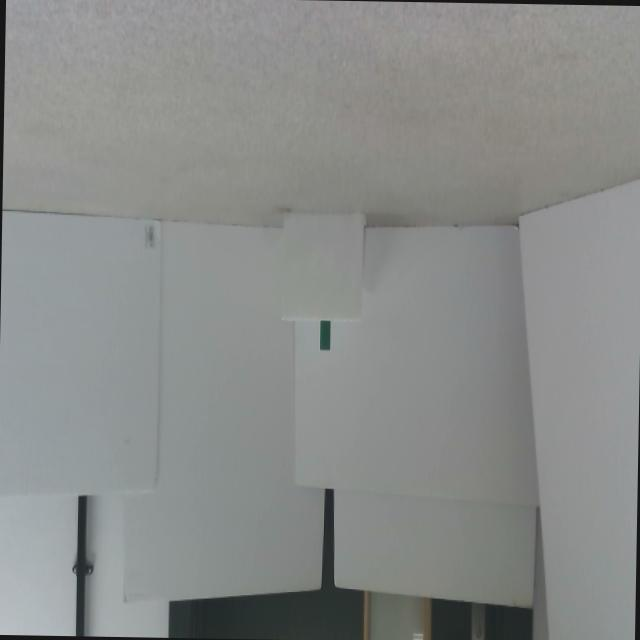green_cylinder: (319, 320, 330, 350)
